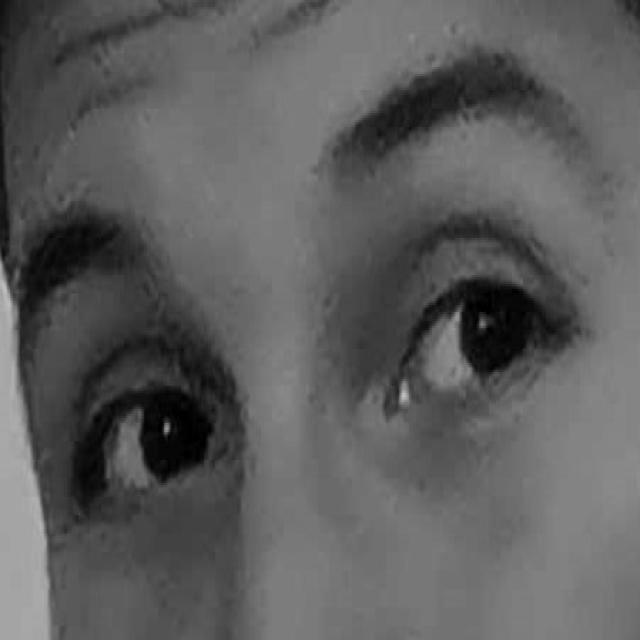real: (42, 176, 602, 552)
